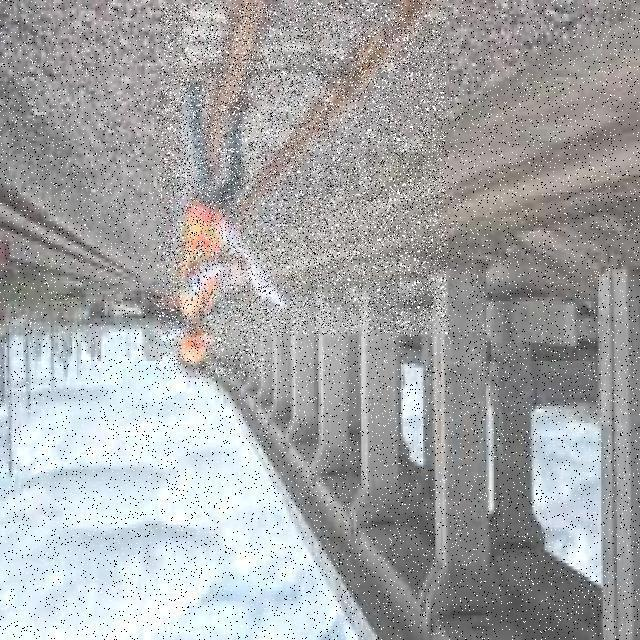rail: (162, 4, 447, 335)
